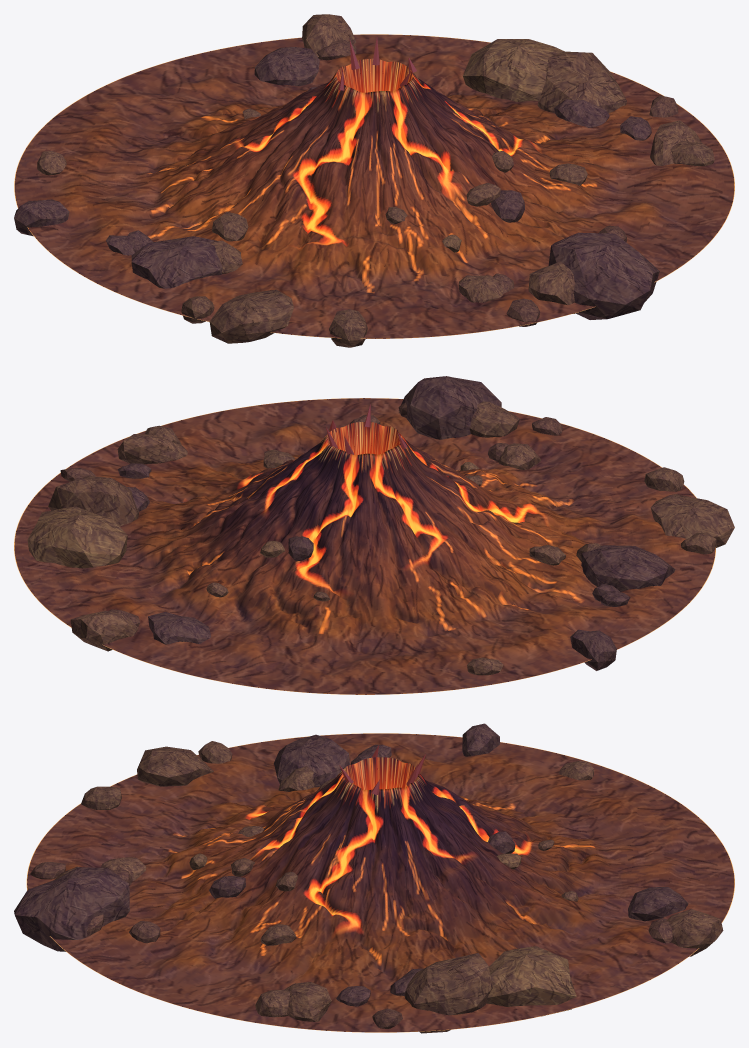
The model's file is cinderpeak.glb.
The picture shows the model from 3 angles, top to bottom: view 1: azimuth 30°, elevation 25°; view 2: azimuth 150°, elevation 25°; view 3: azimuth 270°, elevation 25°; orthographic projection. The views are drawn at different scales.
Visible parts, largest first — view 1: Volcano, Boulder_12, Boulder_33, Boulder_25, Boulder_27, Boulder_32, Boulder_20, Boulder_41, Boulder_31, Boulder_13, Boulder_40, Boulder_29 (+12 smaller); view 2: Volcano, Boulder_33, Boulder_12, Boulder_27, Boulder_32, Boulder_25, Boulder_31, Boulder_40, Boulder_20, Boulder_41, Boulder_13, Boulder_28 (+5 smaller); view 3: Volcano, Boulder_12, Boulder_33, Boulder_25, Boulder_27, Boulder_32, Boulder_31, Boulder_20, Boulder_40, Boulder_13, Boulder_22, Boulder_29 (+8 smaller).
Boxes of the visible parts, x1,y1,x2,y2 form: Volcano: [14, 34, 734, 338]; Boulder_12: [548, 232, 659, 319]; Boulder_33: [463, 39, 564, 101]; Boulder_25: [537, 51, 626, 113]; Boulder_27: [131, 236, 222, 288]; Boulder_32: [209, 289, 293, 343]; Boulder_20: [254, 47, 319, 85]; Boulder_41: [528, 261, 575, 313]; Boulder_31: [302, 14, 356, 58]; Boulder_13: [14, 199, 69, 236]; Boulder_40: [650, 120, 701, 165]; Boulder_29: [329, 309, 367, 347]; Volcano: [14, 398, 715, 694]; Boulder_33: [27, 506, 127, 568]; Boulder_12: [398, 376, 501, 439]; Boulder_27: [581, 545, 675, 591]; Boulder_32: [650, 494, 734, 547]; Boulder_25: [48, 476, 138, 526]; Boulder_31: [70, 610, 138, 651]; Boulder_40: [117, 434, 187, 464]; Boulder_20: [148, 612, 211, 644]; Boulder_41: [469, 401, 519, 437]; Boulder_13: [570, 629, 616, 670]; Boulder_28: [498, 443, 540, 469]; Volcano: [26, 733, 734, 1032]; Boulder_12: [14, 867, 129, 951]; Boulder_33: [486, 946, 576, 1016]; Boulder_25: [404, 953, 492, 1033]; Boulder_27: [273, 734, 349, 787]; Boulder_32: [137, 746, 213, 786]; Boulder_31: [666, 909, 723, 956]; Boulder_20: [628, 887, 688, 921]; Boulder_40: [284, 982, 331, 1021]; Boulder_13: [462, 723, 499, 756]; Boulder_22: [255, 989, 289, 1017]; Boulder_29: [81, 786, 121, 809].
Size of what is drawn, in the model's own units: 32 by 8.03 by 32.57.
48 materials, 42 textured.
